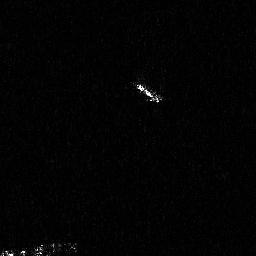ship: (134, 81, 164, 106)
